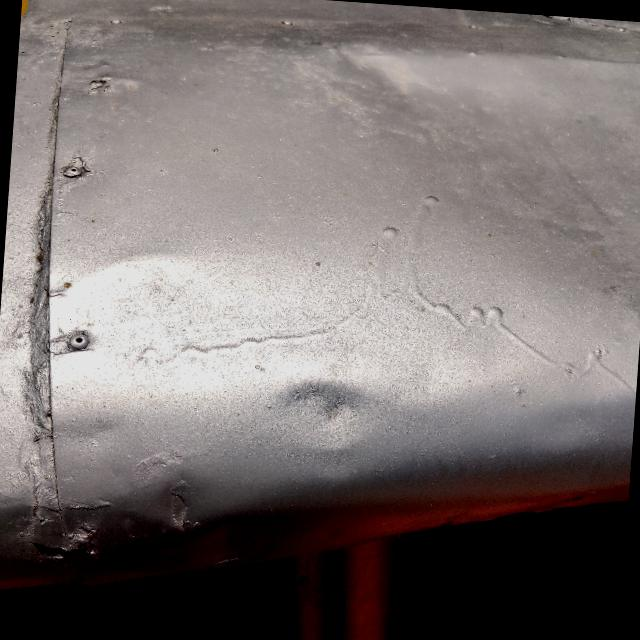dent: (238, 344, 396, 492), (116, 447, 240, 560)
